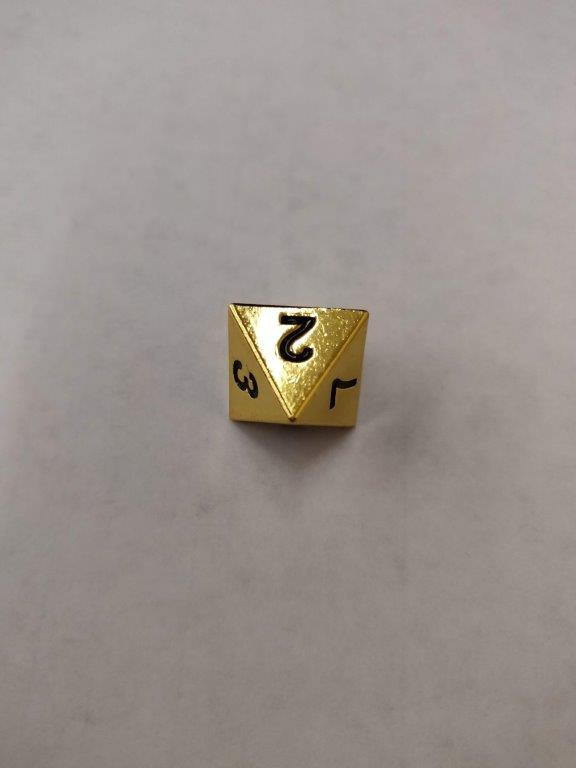d8-2: (224, 297, 372, 429)
